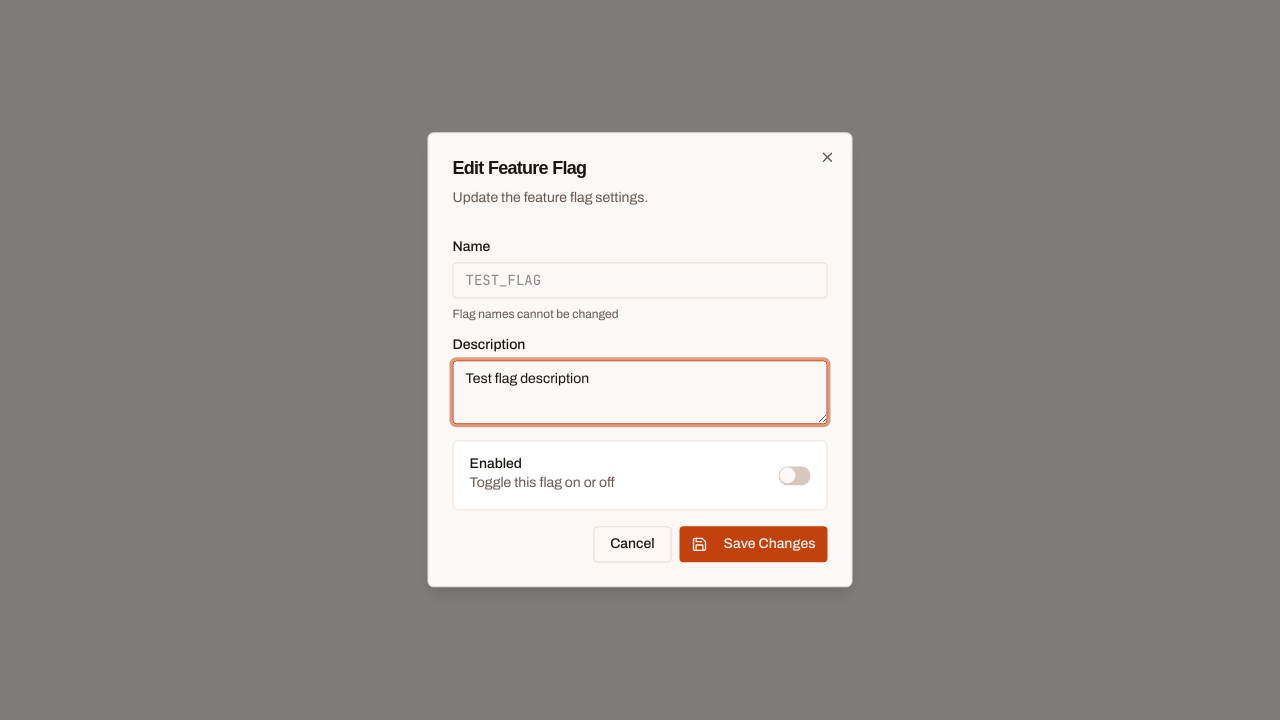
Test: components/admin/feature-flag-form › form submission - edit mode › should display error message on update failure
Click the button "Save Changes".
click(754, 545)  # box [680, 527, 828, 563]
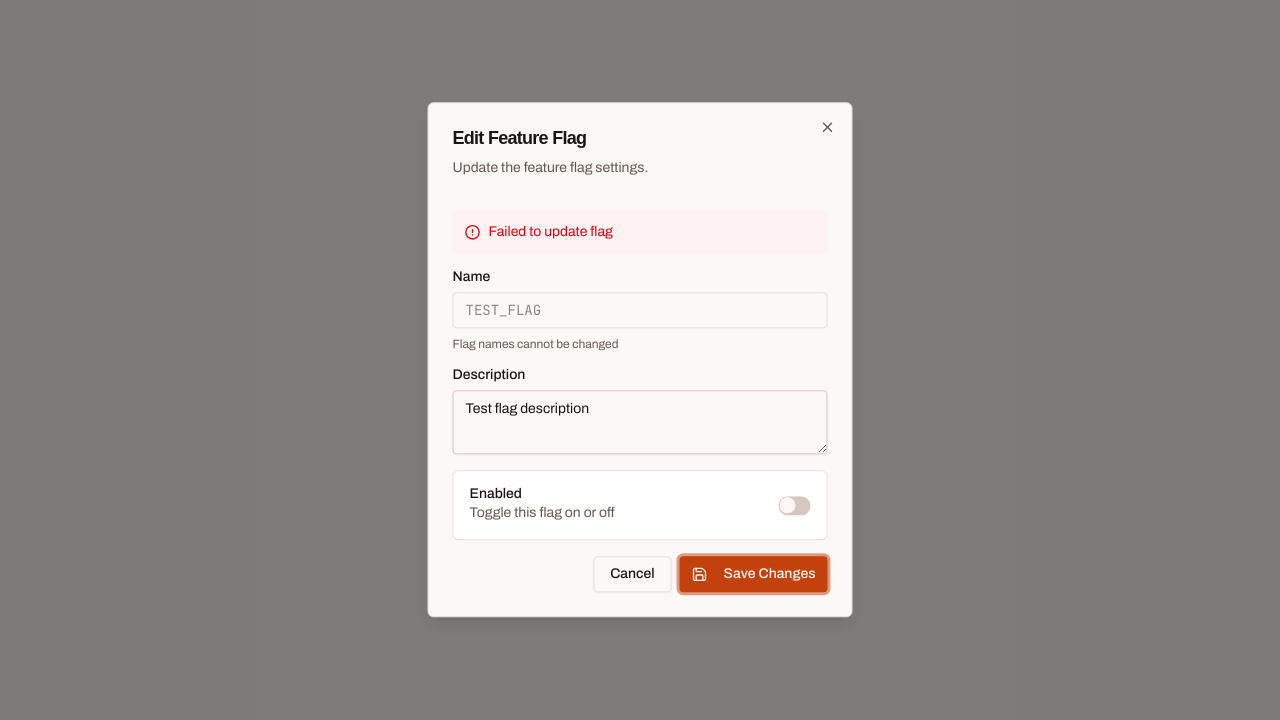
Check: the text "Failed to update flag" is shown, box [452, 211, 828, 255]
